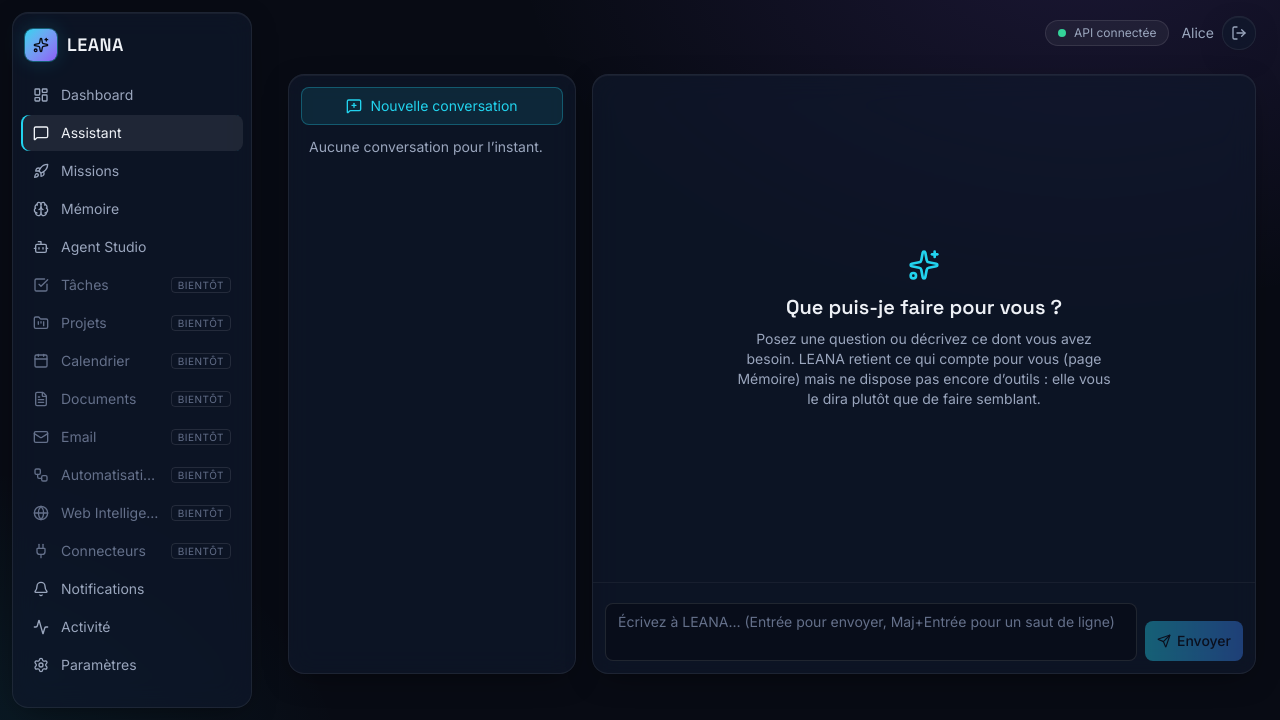
it: assistant › starts a conversation, streams the reply, then shows the stored version
Replace the text in the text box named "Message pour LEANA" with "Salut" at (871, 632), box [605,603,1137,661]
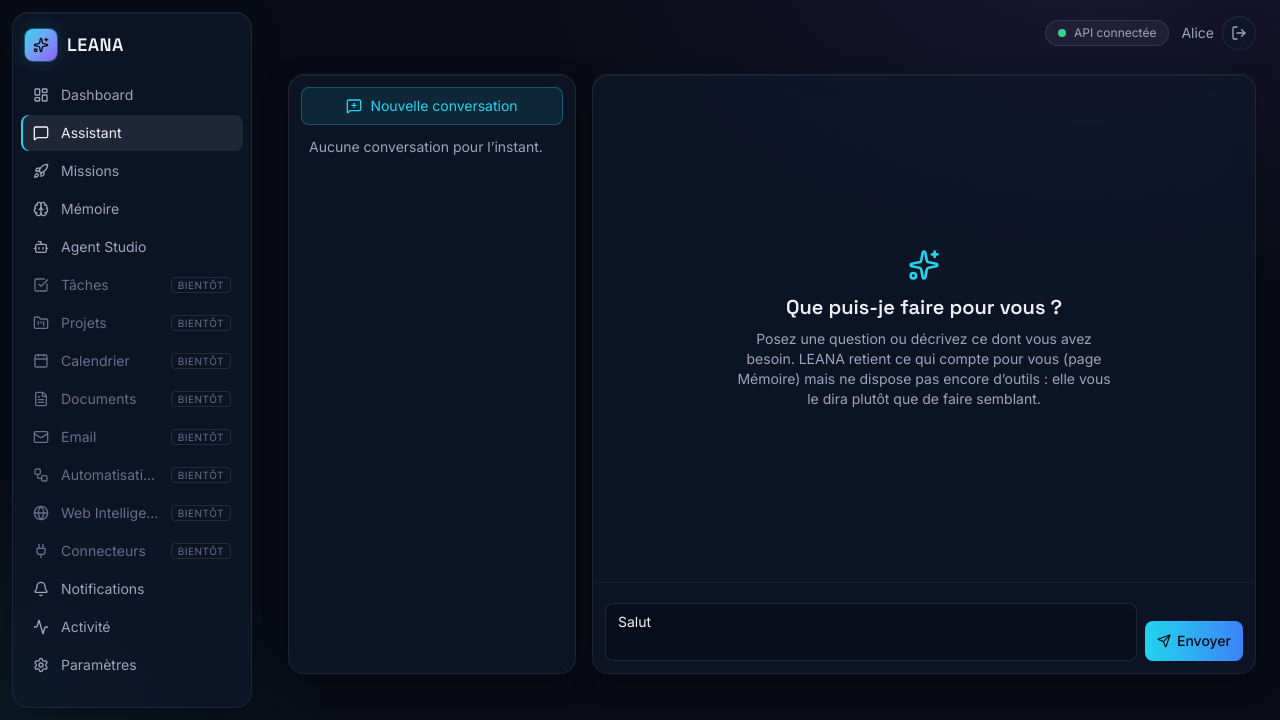
Press Enter in the text box named "Message pour LEANA", box [605,603,1137,661]
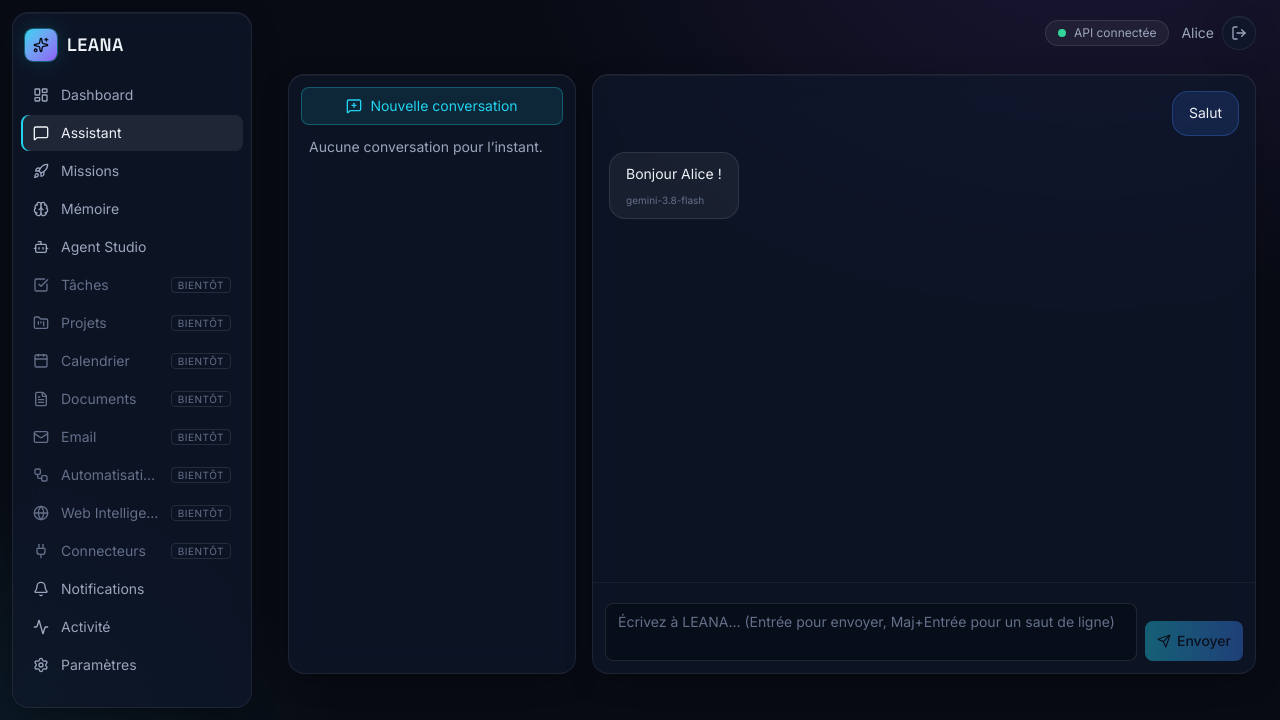
Check: the text "Bonjour Alice !" is shown, box [626,165,722,182]
Check: the text "Salut" is shown, box [1172,91,1239,136]
Check: the text box named "Message pour LEANA" is empty, box [605,603,1137,661]
